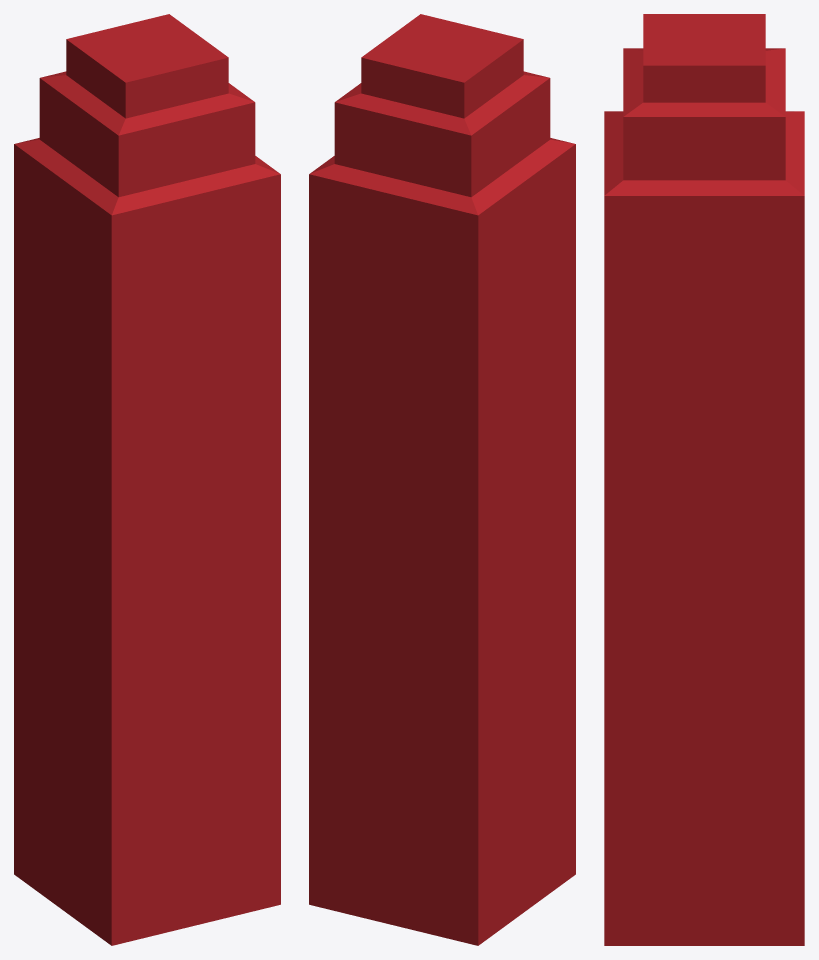
Rendered from lipstickbottom.fbx.
3 renders of one model, left to right at view 1: azimuth 30°, elevation 25°; view 2: azimuth 150°, elevation 25°; view 3: azimuth 270°, elevation 25°, orthographic. The views are drawn at different scales.
Parts seen in each view (by area): view 1: pCube25; view 2: pCube25; view 3: pCube25.
Boxes of the visible parts, x1,y1,x2,y2 form: pCube25: [14, 14, 280, 945]; pCube25: [309, 14, 575, 945]; pCube25: [604, 14, 804, 945].
Size of the model in its own units: 0.4057 by 1.93 by 0.4057.
